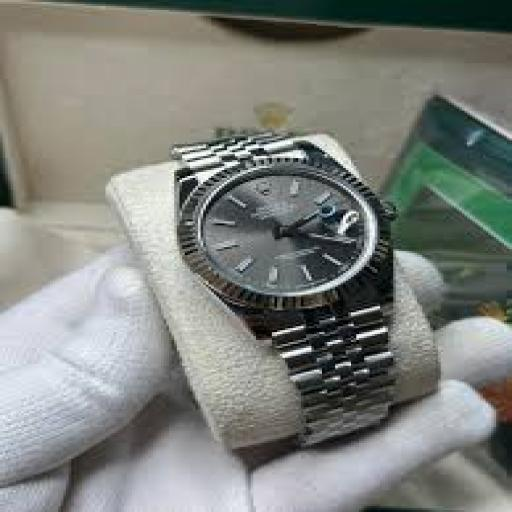KolSaati: (132, 122, 438, 450)
